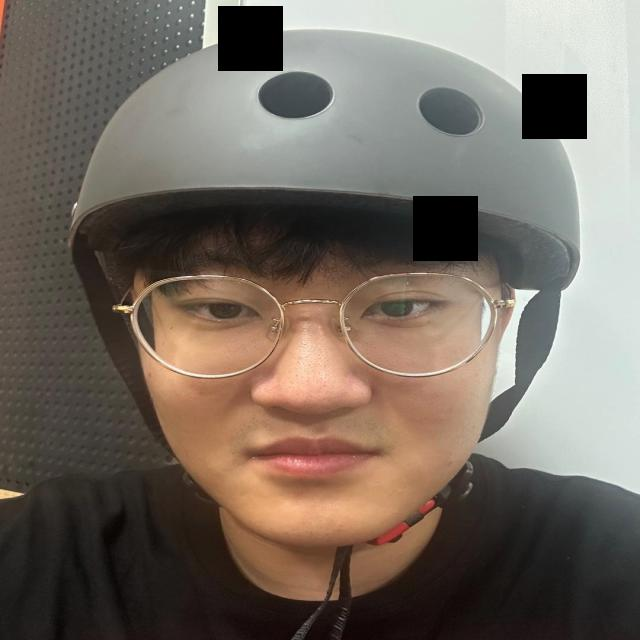Helmet: (64, 27, 582, 545)
